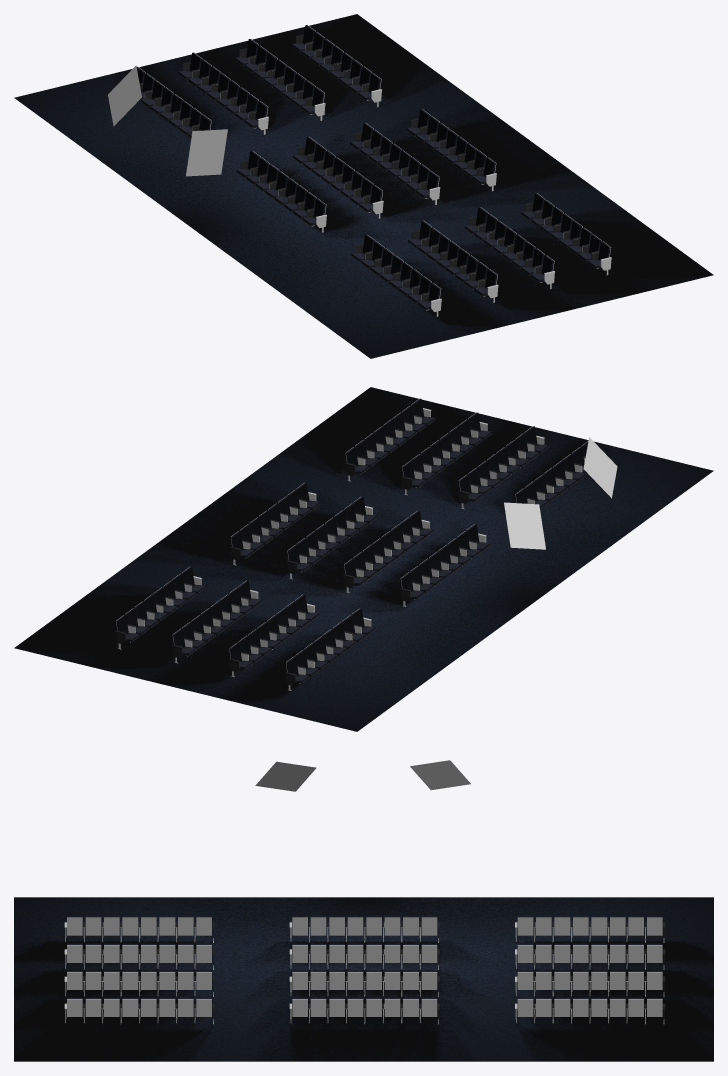
Rendered from chairs.dae.
3 renders of one model, top to bottom at view 1: azimuth 30°, elevation 25°; view 2: azimuth 150°, elevation 25°; view 3: azimuth 270°, elevation 25°, orthographic.
Parts seen in each view (by area): view 1: Plane_002, Cube_001, Plane_001, Plane; view 2: Plane_002, Cube_001, Plane, Plane_001; view 3: Plane_002, Cube_001, Plane_001, Plane.
Boxes of the visible parts, x1,y1,x2,y2 form: Plane_002: (14, 14, 713, 358); Cube_001: (136, 25, 611, 317); Plane_001: (186, 129, 227, 176); Plane: (108, 65, 141, 126); Plane_002: (14, 387, 713, 731); Cube_001: (115, 398, 588, 690); Plane: (504, 502, 545, 549); Plane_001: (583, 437, 617, 498); Plane_002: (14, 897, 713, 1061); Cube_001: (64, 916, 665, 1024); Plane_001: (255, 761, 316, 791); Plane: (410, 760, 470, 790).
Size of the model in its own units: 34.44 by 54.86 by 11.39.
